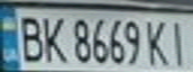6: (106, 16, 127, 65), (90, 16, 109, 65)
8: (66, 13, 93, 64)
9: (121, 17, 145, 68)
B: (12, 11, 45, 63)
I: (163, 17, 193, 69)
K: (36, 12, 69, 64), (142, 17, 172, 69)
